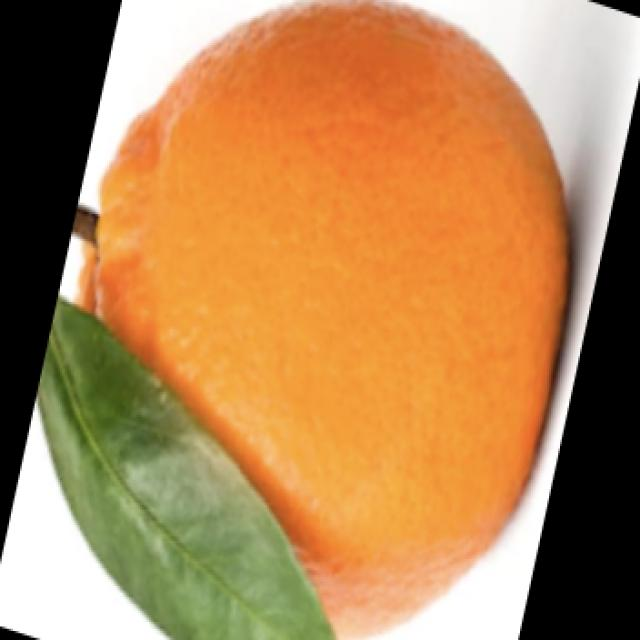fresh: (33, 0, 580, 640)
